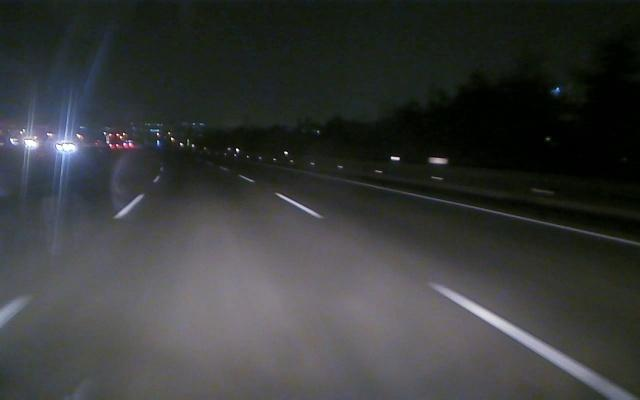lane: (273, 192, 636, 398), (1, 195, 143, 327), (370, 184, 640, 246)
